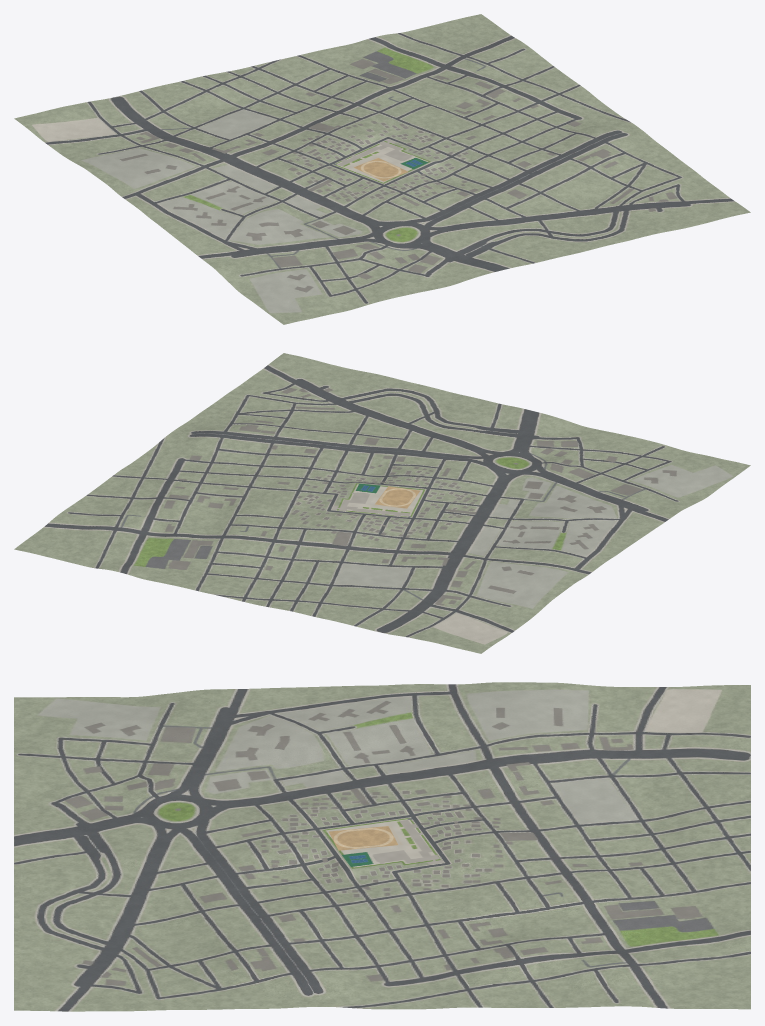
3 renders of one model, top to bottom at view 1: azimuth 30°, elevation 25°; view 2: azimuth 150°, elevation 25°; view 3: azimuth 270°, elevation 25°, orthographic. The views are drawn at different scales.
Visible parts, largest first — view 1: ground-area, ground-school, field; view 2: ground-area, ground-school, field; view 3: ground-area, ground-school, field.
Boxes of the visible parts, <box> form: ground-area: <box>14,14,750,324</box>; ground-school: <box>305,131,458,196</box>; field: <box>354,158,408,181</box>; ground-area: <box>14,353,750,653</box>; ground-school: <box>307,472,460,532</box>; field: <box>375,486,420,508</box>; ground-area: <box>14,682,750,1011</box>; ground-school: <box>304,809,458,881</box>; field: <box>328,825,398,850</box>.
Bounding box in the file's own units: 1088 × 31.18 × 1088.
Materials: 3 (3 with a texture image).
